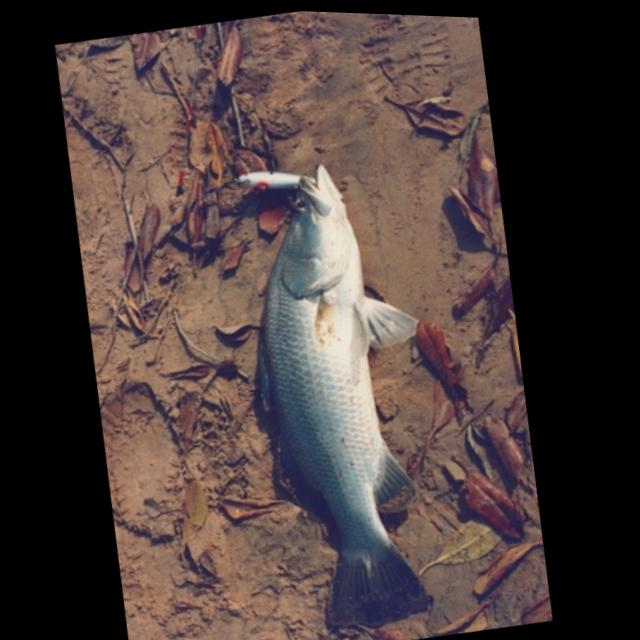Seabass: (202, 144, 478, 640)
